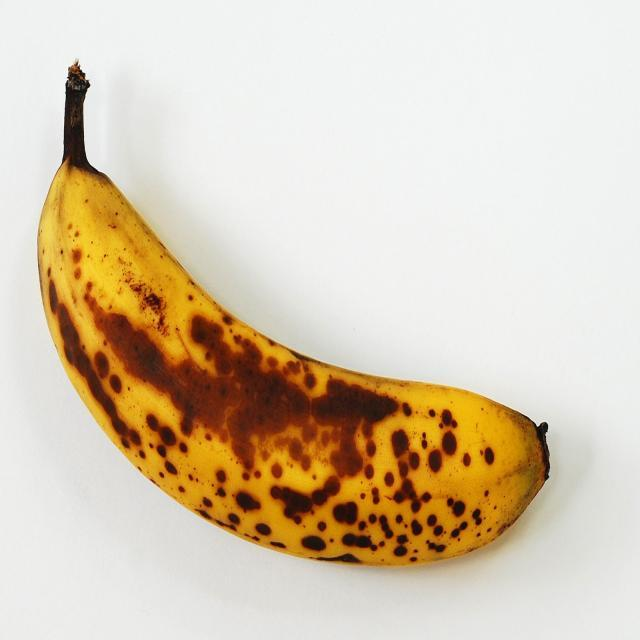Muito Madura: (38, 153, 554, 564)
